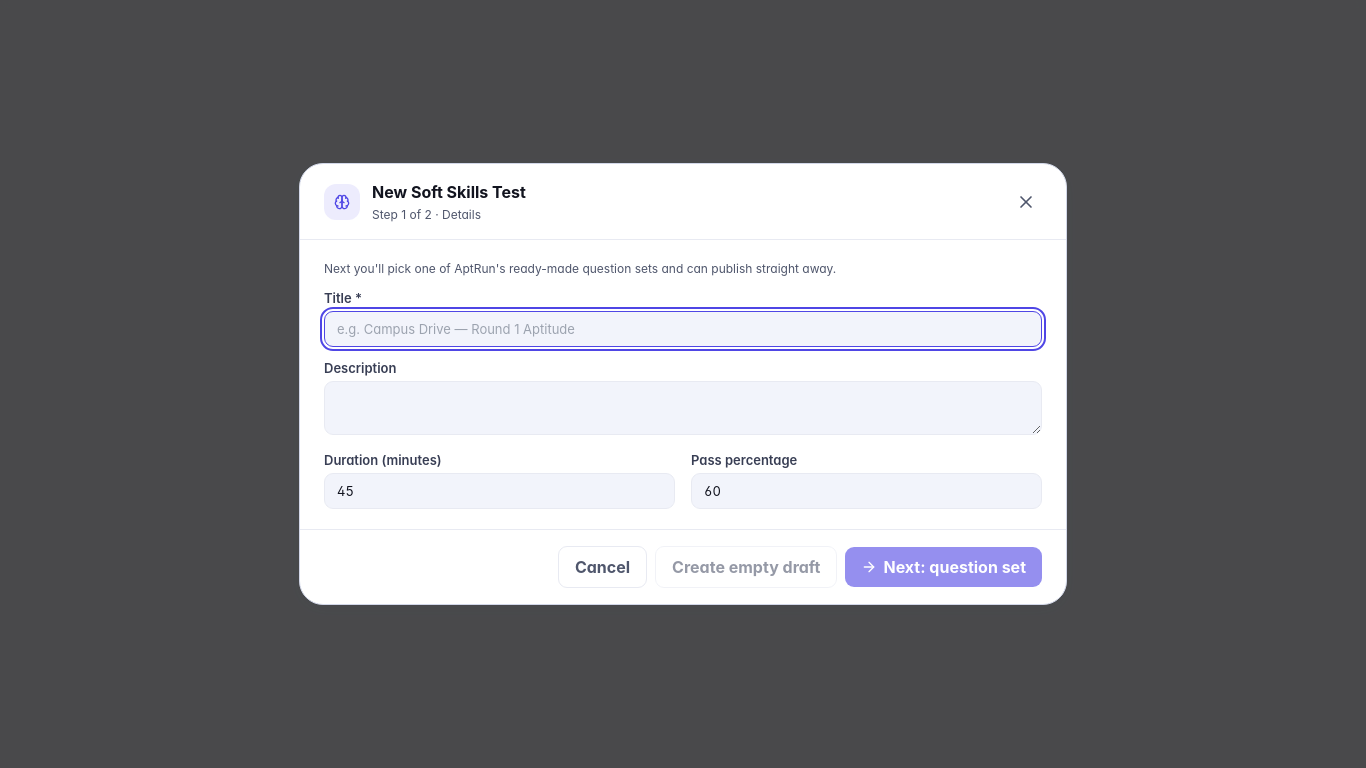
Test: CreateSoftSkillAssessmentModal — pick a question set, then publish › Back returns to the details with what was typed
Type "Campus Round 2" into the field labelled "Title *" at x=683, y=329, box [324,311,1042,347]
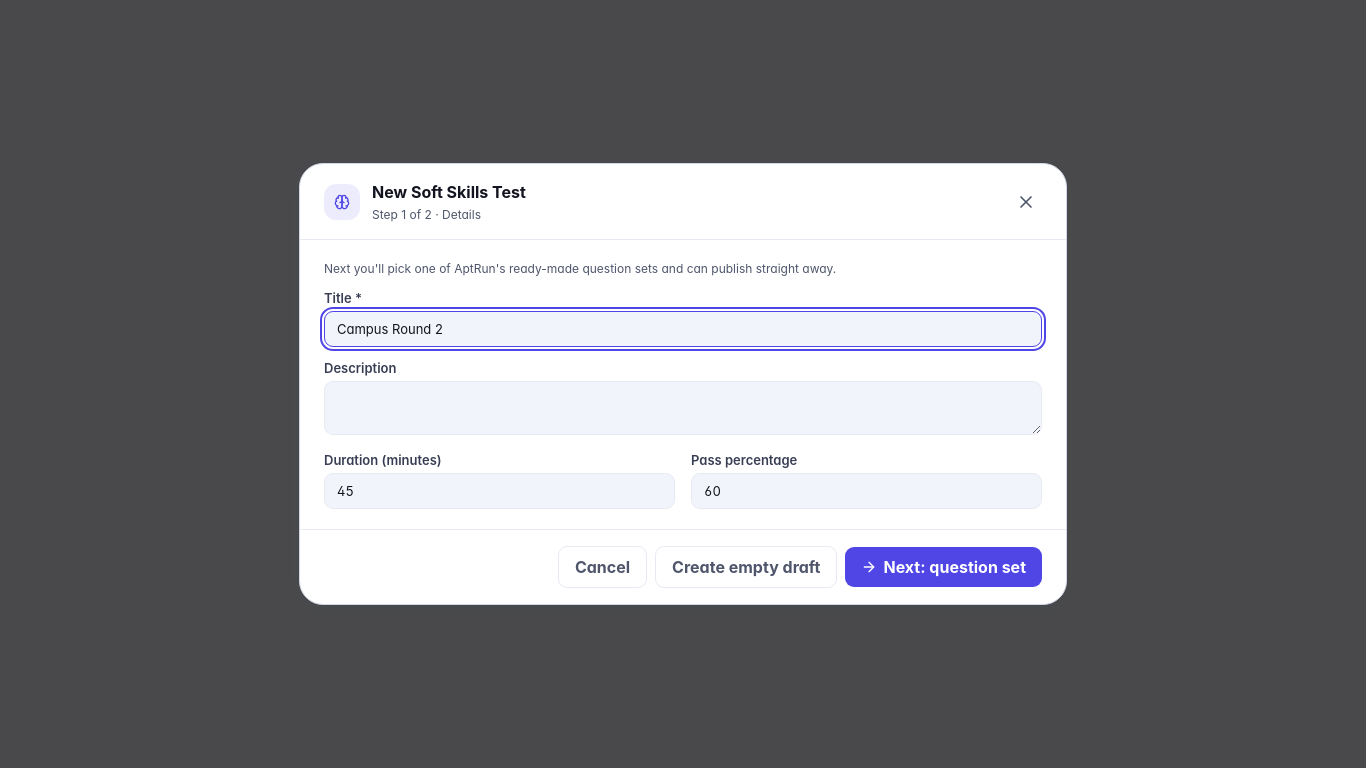
Click the button "Next: question set" at x=944, y=567, box [845,547,1042,587]
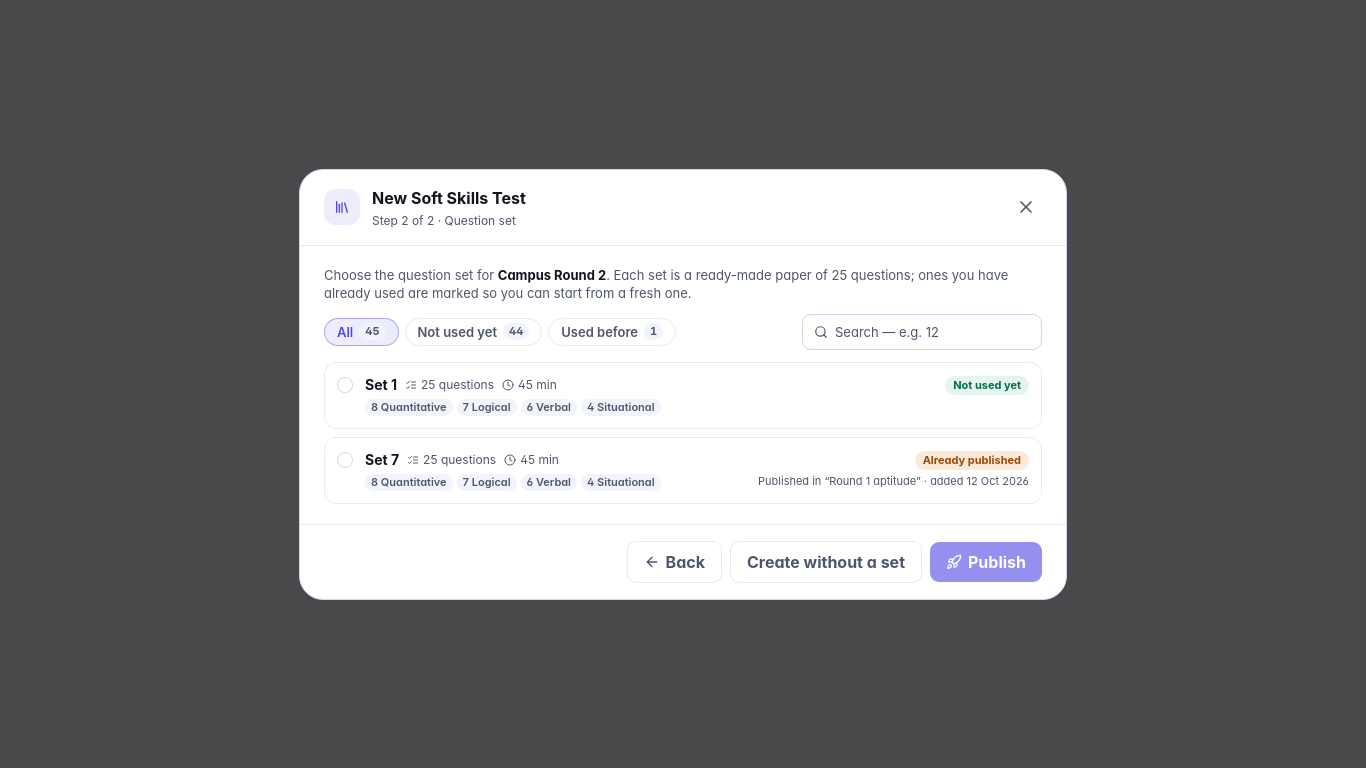
Expected: the text "Step 2 of 2 · Question set" is shown, [372,212,526,228]
Click the button "Back" at x=674, y=562, box [627,540,722,582]
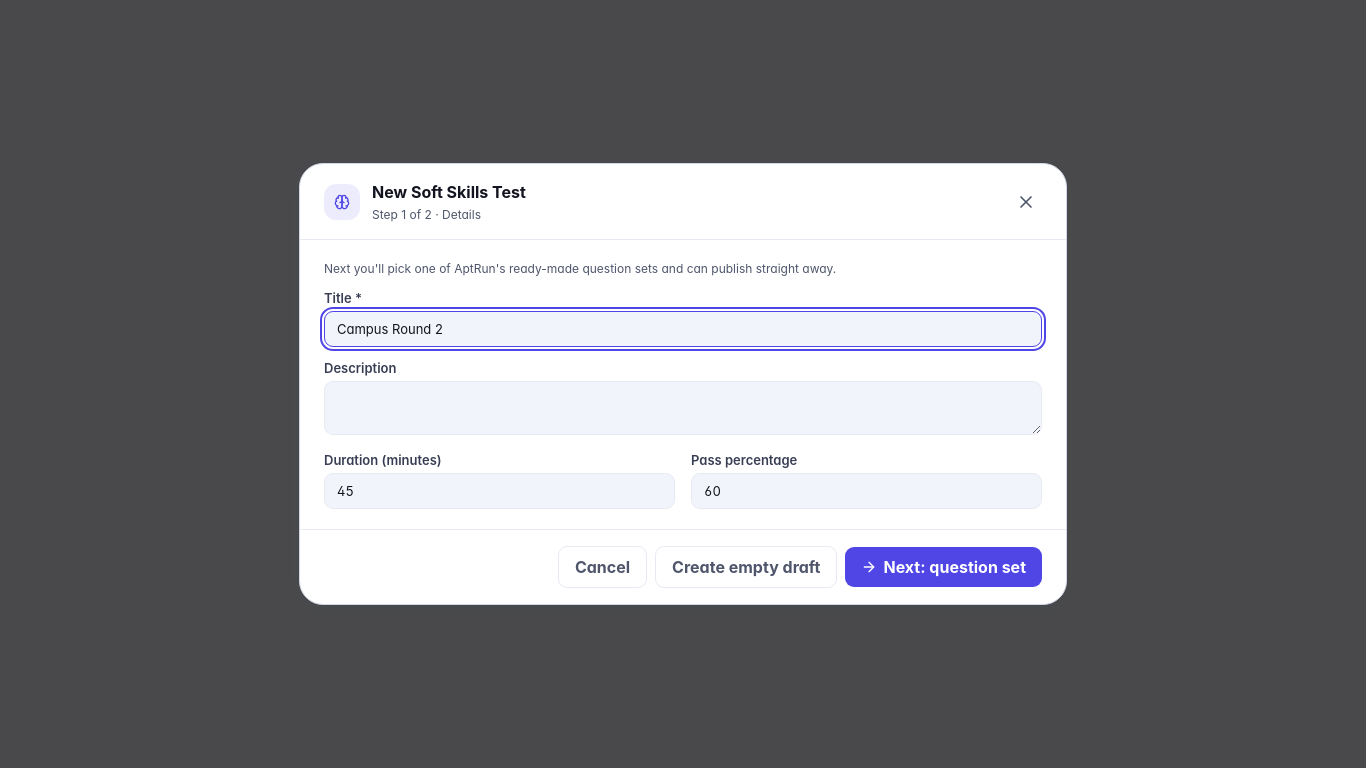
Expected: the field labelled "Title *" holds "Campus Round 2", [324,311,1042,347]
